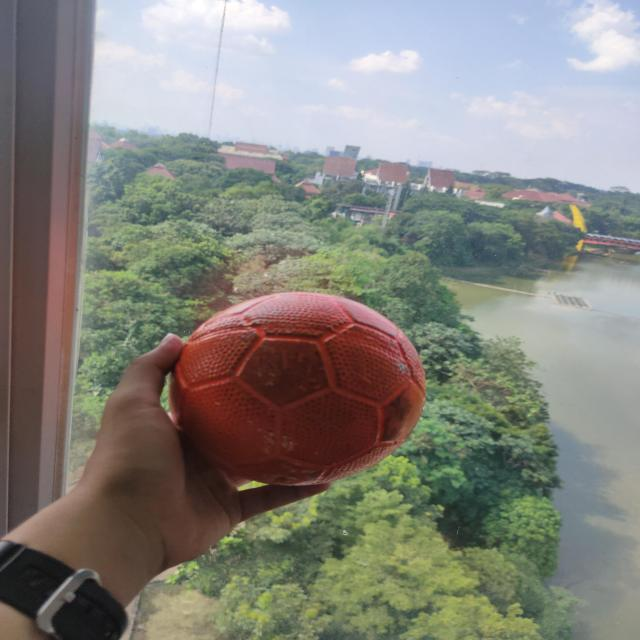bola: (160, 280, 434, 498)
